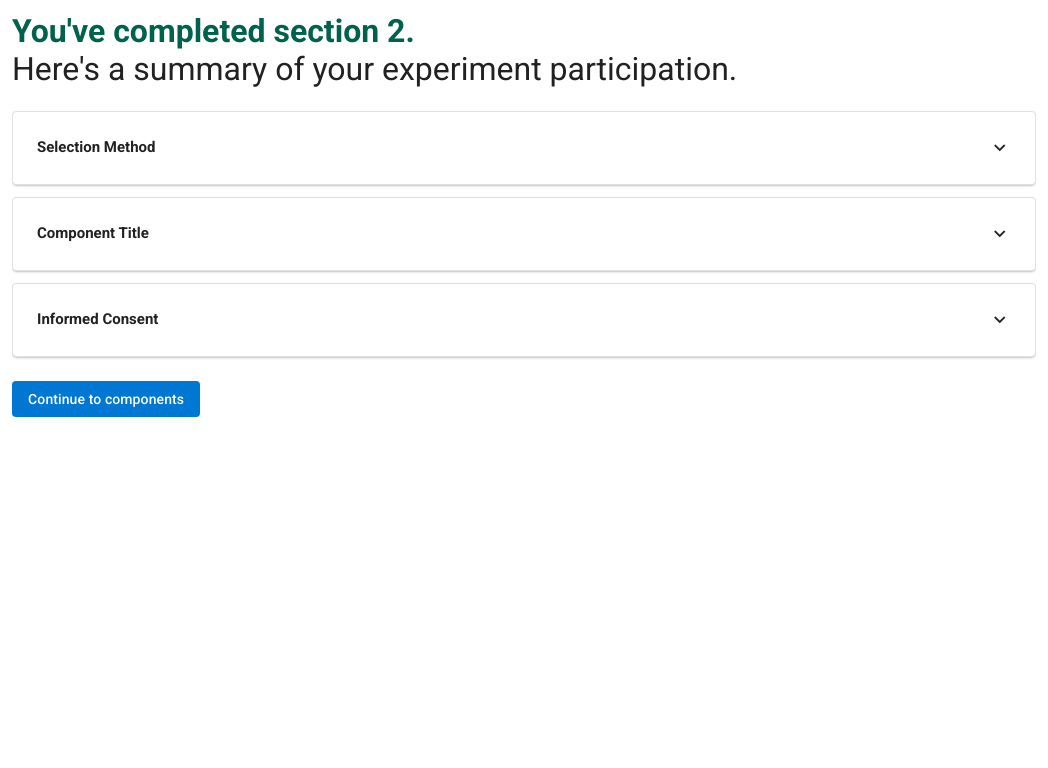
ParticipationSummary › renders the consent assignment title inside the Component Title panel
This screenshot has width=1048, height=768.
Click the button "Component Title" at x=93, y=233, box [13, 210, 1035, 258]
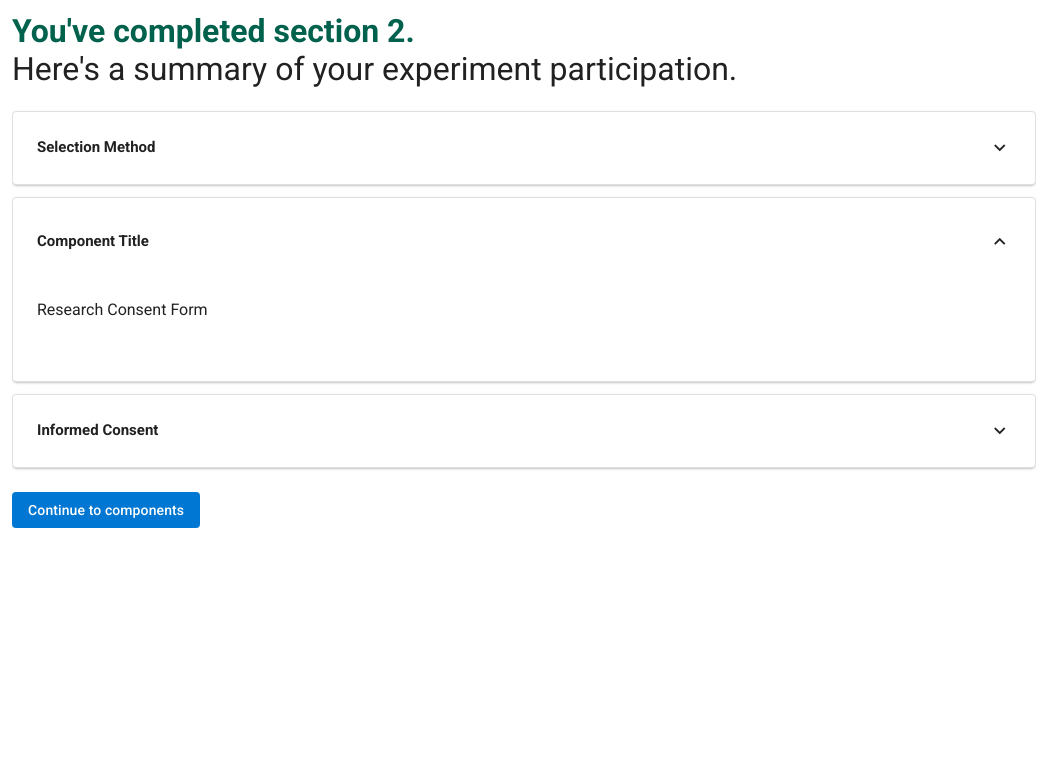
Check: the text "Research Consent Form" is shown, box [37, 300, 208, 319]
